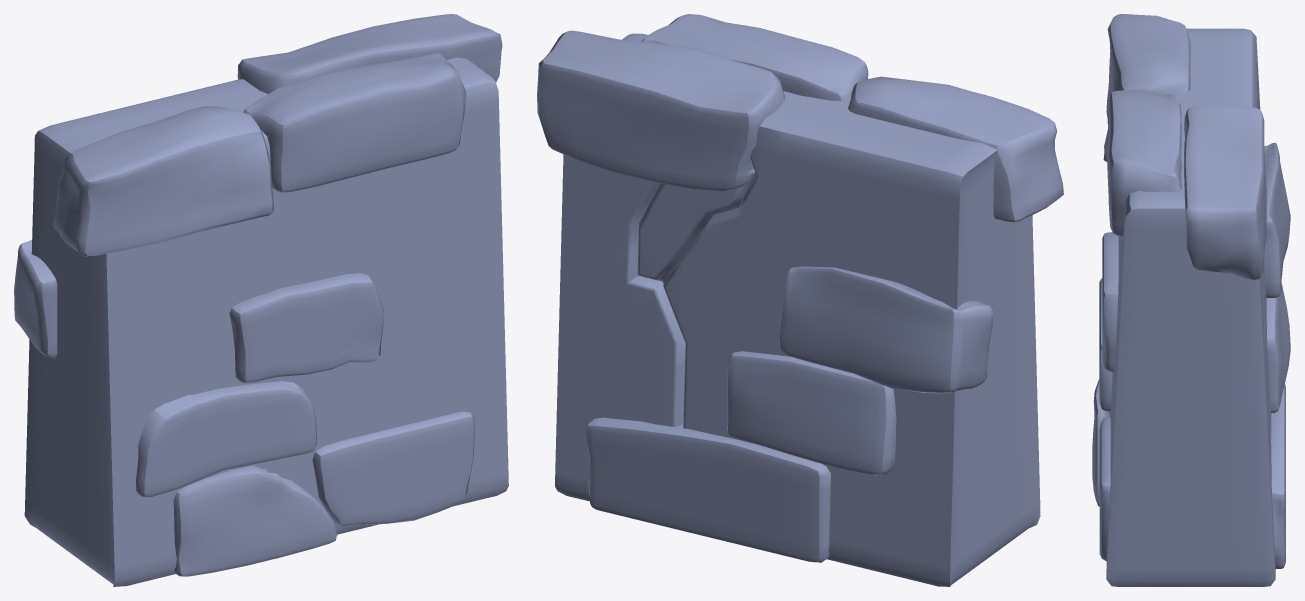
Rendered from Wall_S_3.fbx.
The picture shows the model from 3 angles, left to right: view 1: azimuth 30°, elevation 25°; view 2: azimuth 150°, elevation 25°; view 3: azimuth 270°, elevation 25°; orthographic projection. The views are drawn at different scales.
Visible parts, largest first — view 1: wall_S_C; view 2: wall_S_C; view 3: wall_S_C.
Boxes of the visible parts, <box> form: wall_S_C: <box>14,14,508,586</box>; wall_S_C: <box>537,14,1063,586</box>; wall_S_C: <box>1092,14,1290,586</box>.
Bounding box in the file's own units: 0.5877 × 0.5314 × 0.2332.
